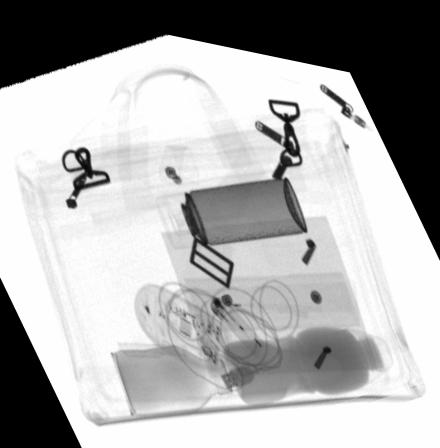Lighter: (210, 285, 267, 349)
Sprayer: (154, 165, 306, 241)
